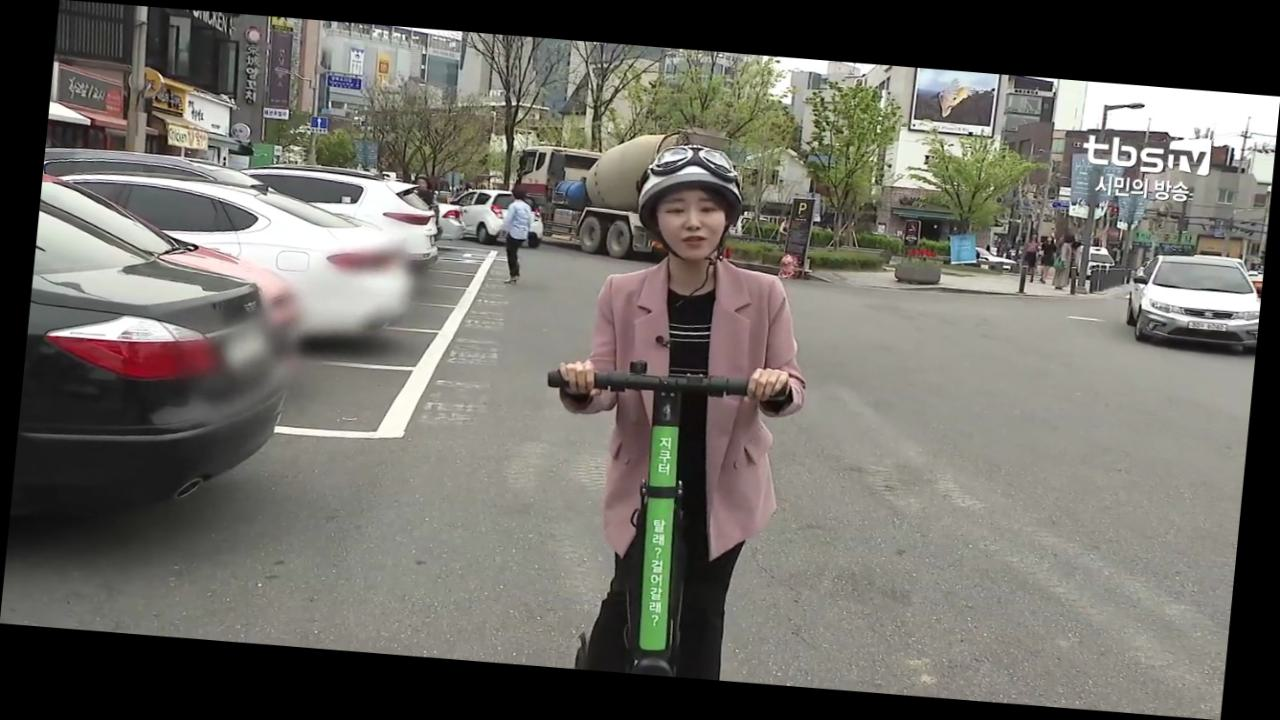helmet: (516, 134, 835, 686)
